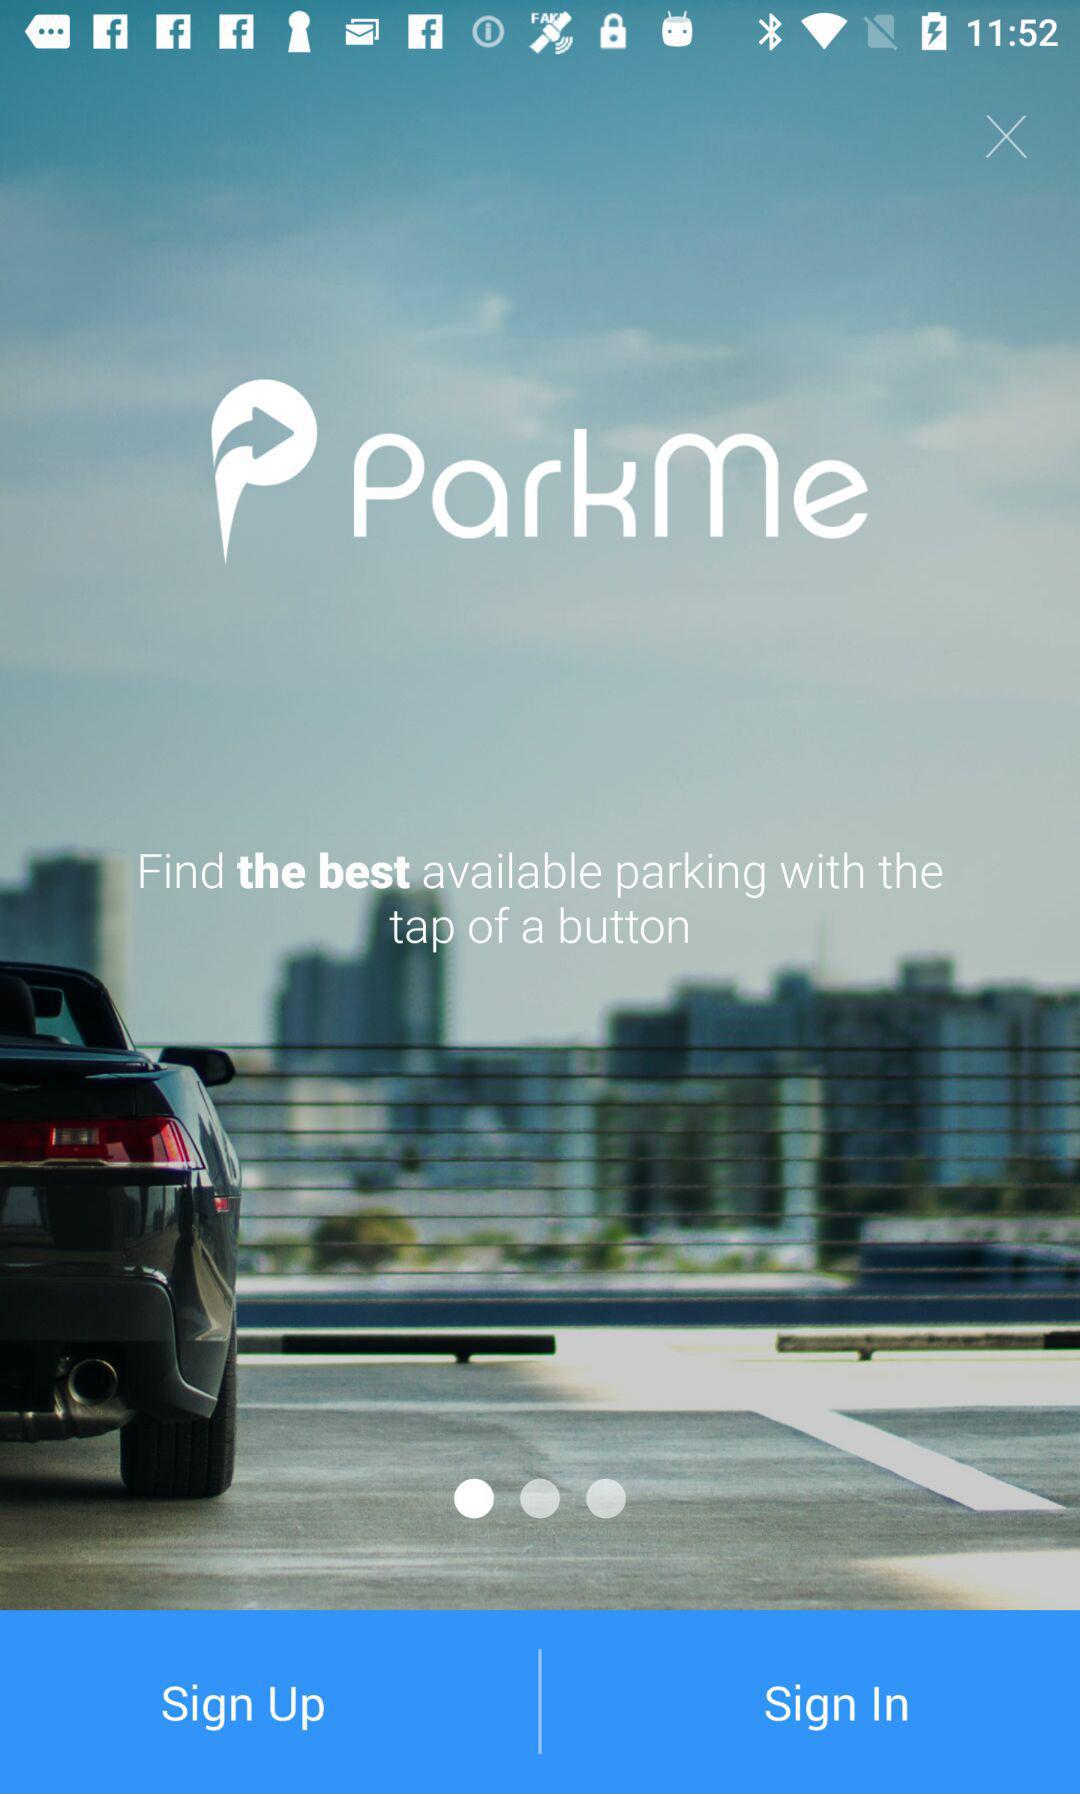BackgroundImage: (1, 64, 1080, 1609)
Icon: (985, 114, 1029, 161)
Image: (211, 379, 870, 566)
PageIndicator: (452, 1477, 629, 1521)
Text: (138, 850, 944, 953)
TextButton: (1, 1609, 541, 1794), (541, 1609, 1080, 1794)
UpperTaskBar: (1, 1, 1080, 64)
